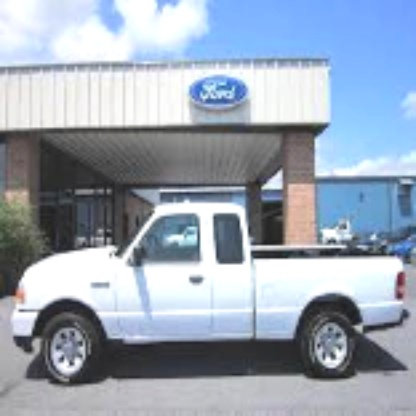Vehicle: (14, 204, 414, 386)
